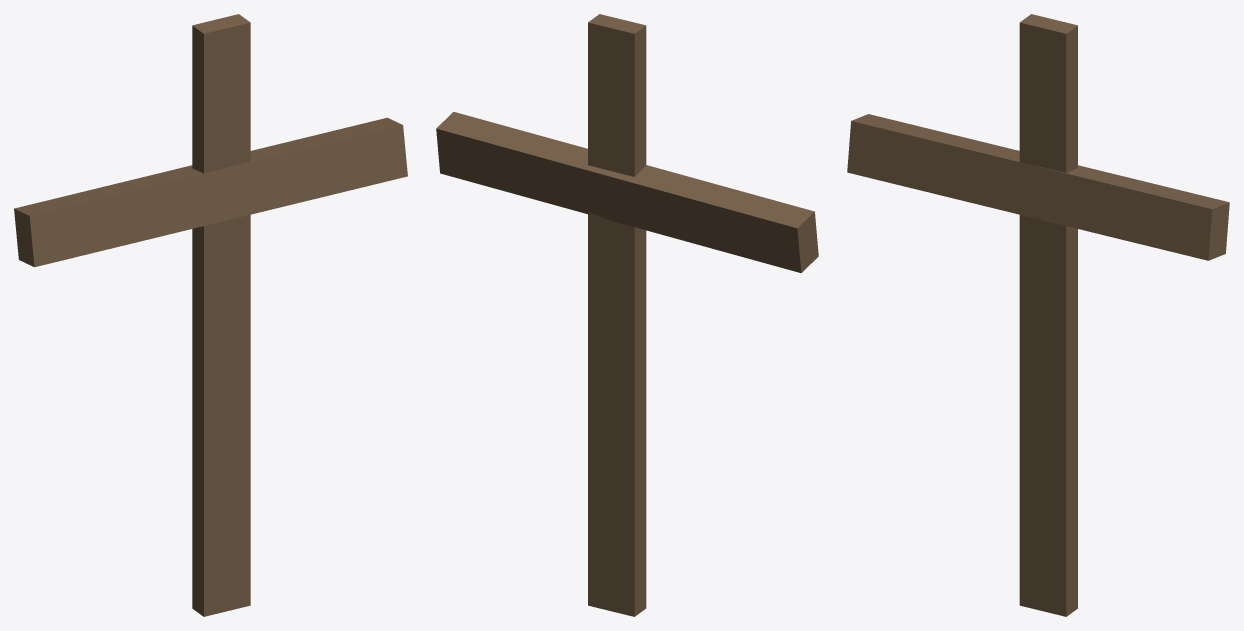
Rendered from Cross_02.fbx.
The picture shows the model from 3 angles, left to right: view 1: azimuth 30°, elevation 25°; view 2: azimuth 150°, elevation 25°; view 3: azimuth 330°, elevation 25°; orthographic projection.
Visible parts, largest first — view 1: Cross_02; view 2: Cross_02; view 3: Cross_02.
Part boxes in pixels (x1=…): Cross_02: x1=14, y1=14, x2=407, y2=616; Cross_02: x1=436, y1=14, x2=818, y2=616; Cross_02: x1=847, y1=14, x2=1229, y2=616.
Size of the model in its own units: 101 by 153 by 12.86.
